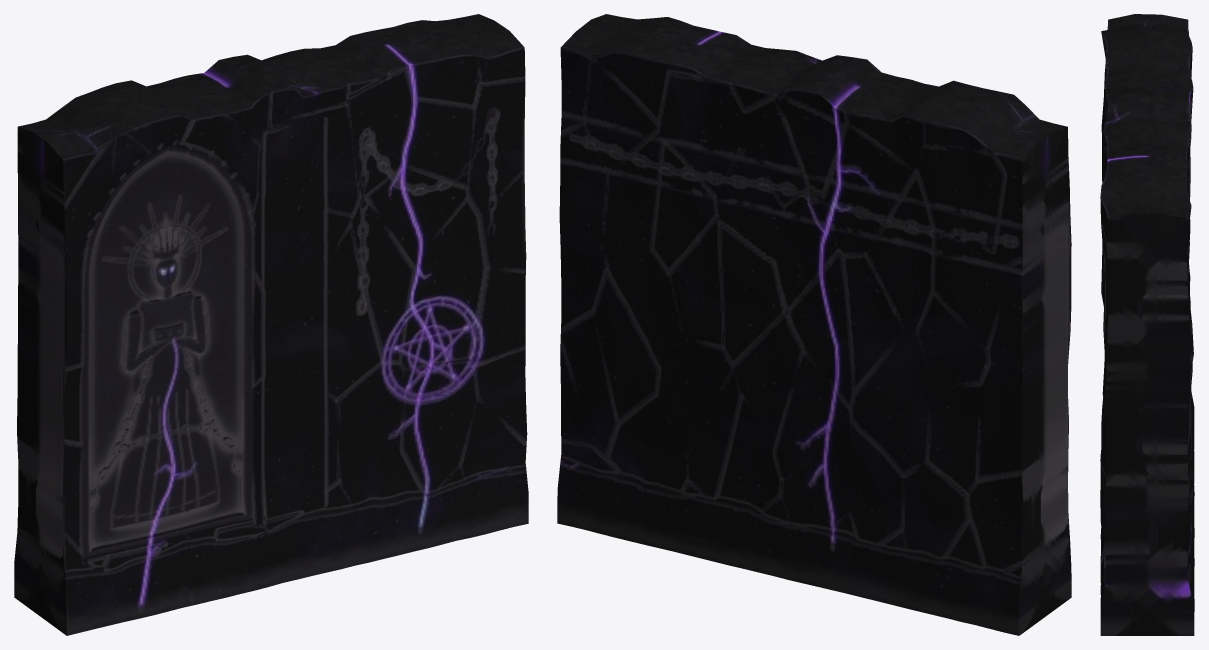
The model's file is abyss_wall.glb.
The picture shows the model from 3 angles, left to right: view 1: azimuth 30°, elevation 25°; view 2: azimuth 150°, elevation 25°; view 3: azimuth 270°, elevation 25°; orthographic projection. The views are drawn at different scales.
Parts seen in each view (by area): view 1: abyss_wall; view 2: abyss_wall; view 3: abyss_wall.
Part boxes in pixels (bbox=[...]): abyss_wall: bbox=[14, 14, 528, 635]; abyss_wall: bbox=[557, 14, 1071, 635]; abyss_wall: bbox=[1100, 14, 1194, 635].
Size of the model in its own units: 4 by 4.11 by 0.8014.
1 material, 1 textured.
